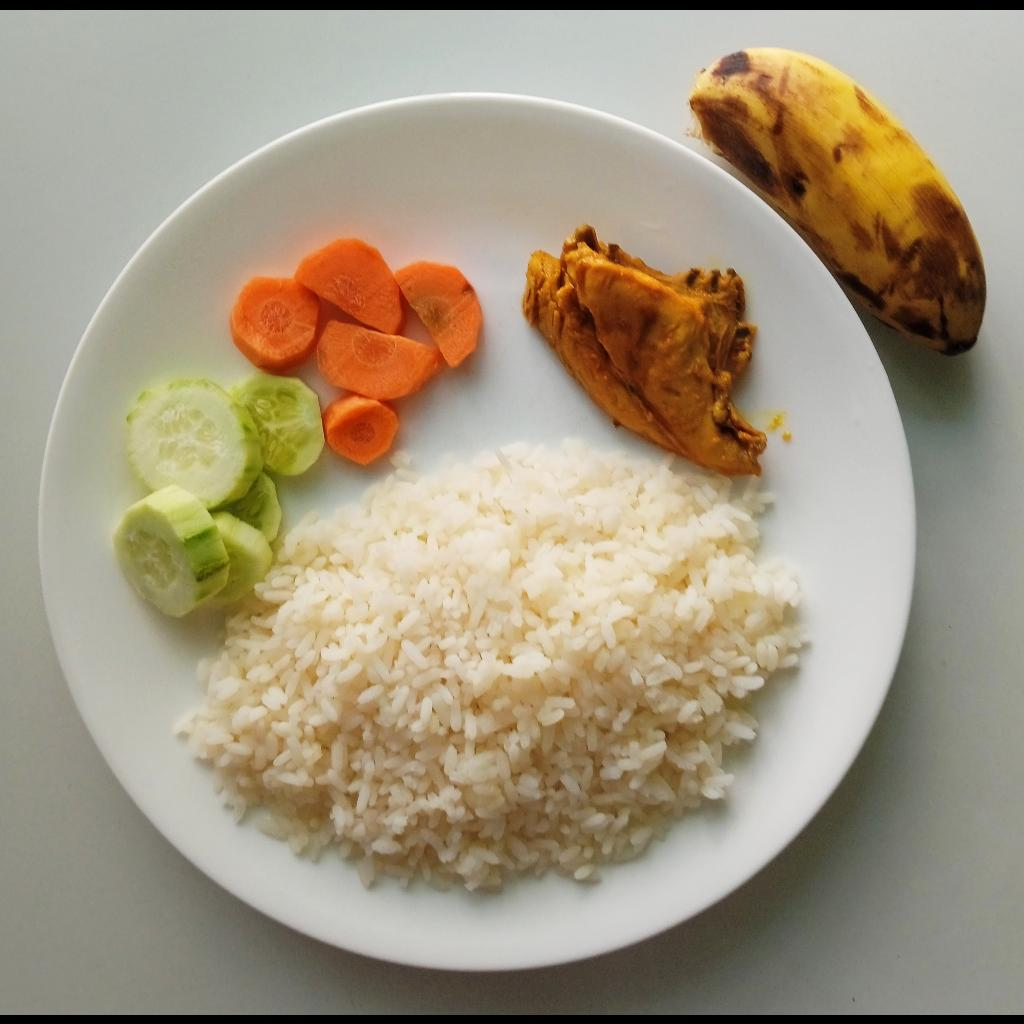banana: (686, 48, 988, 358)
carrot: (226, 236, 486, 464)
chicken: (521, 229, 770, 472)
cucumber: (111, 370, 328, 618)
rice: (169, 438, 812, 893)
